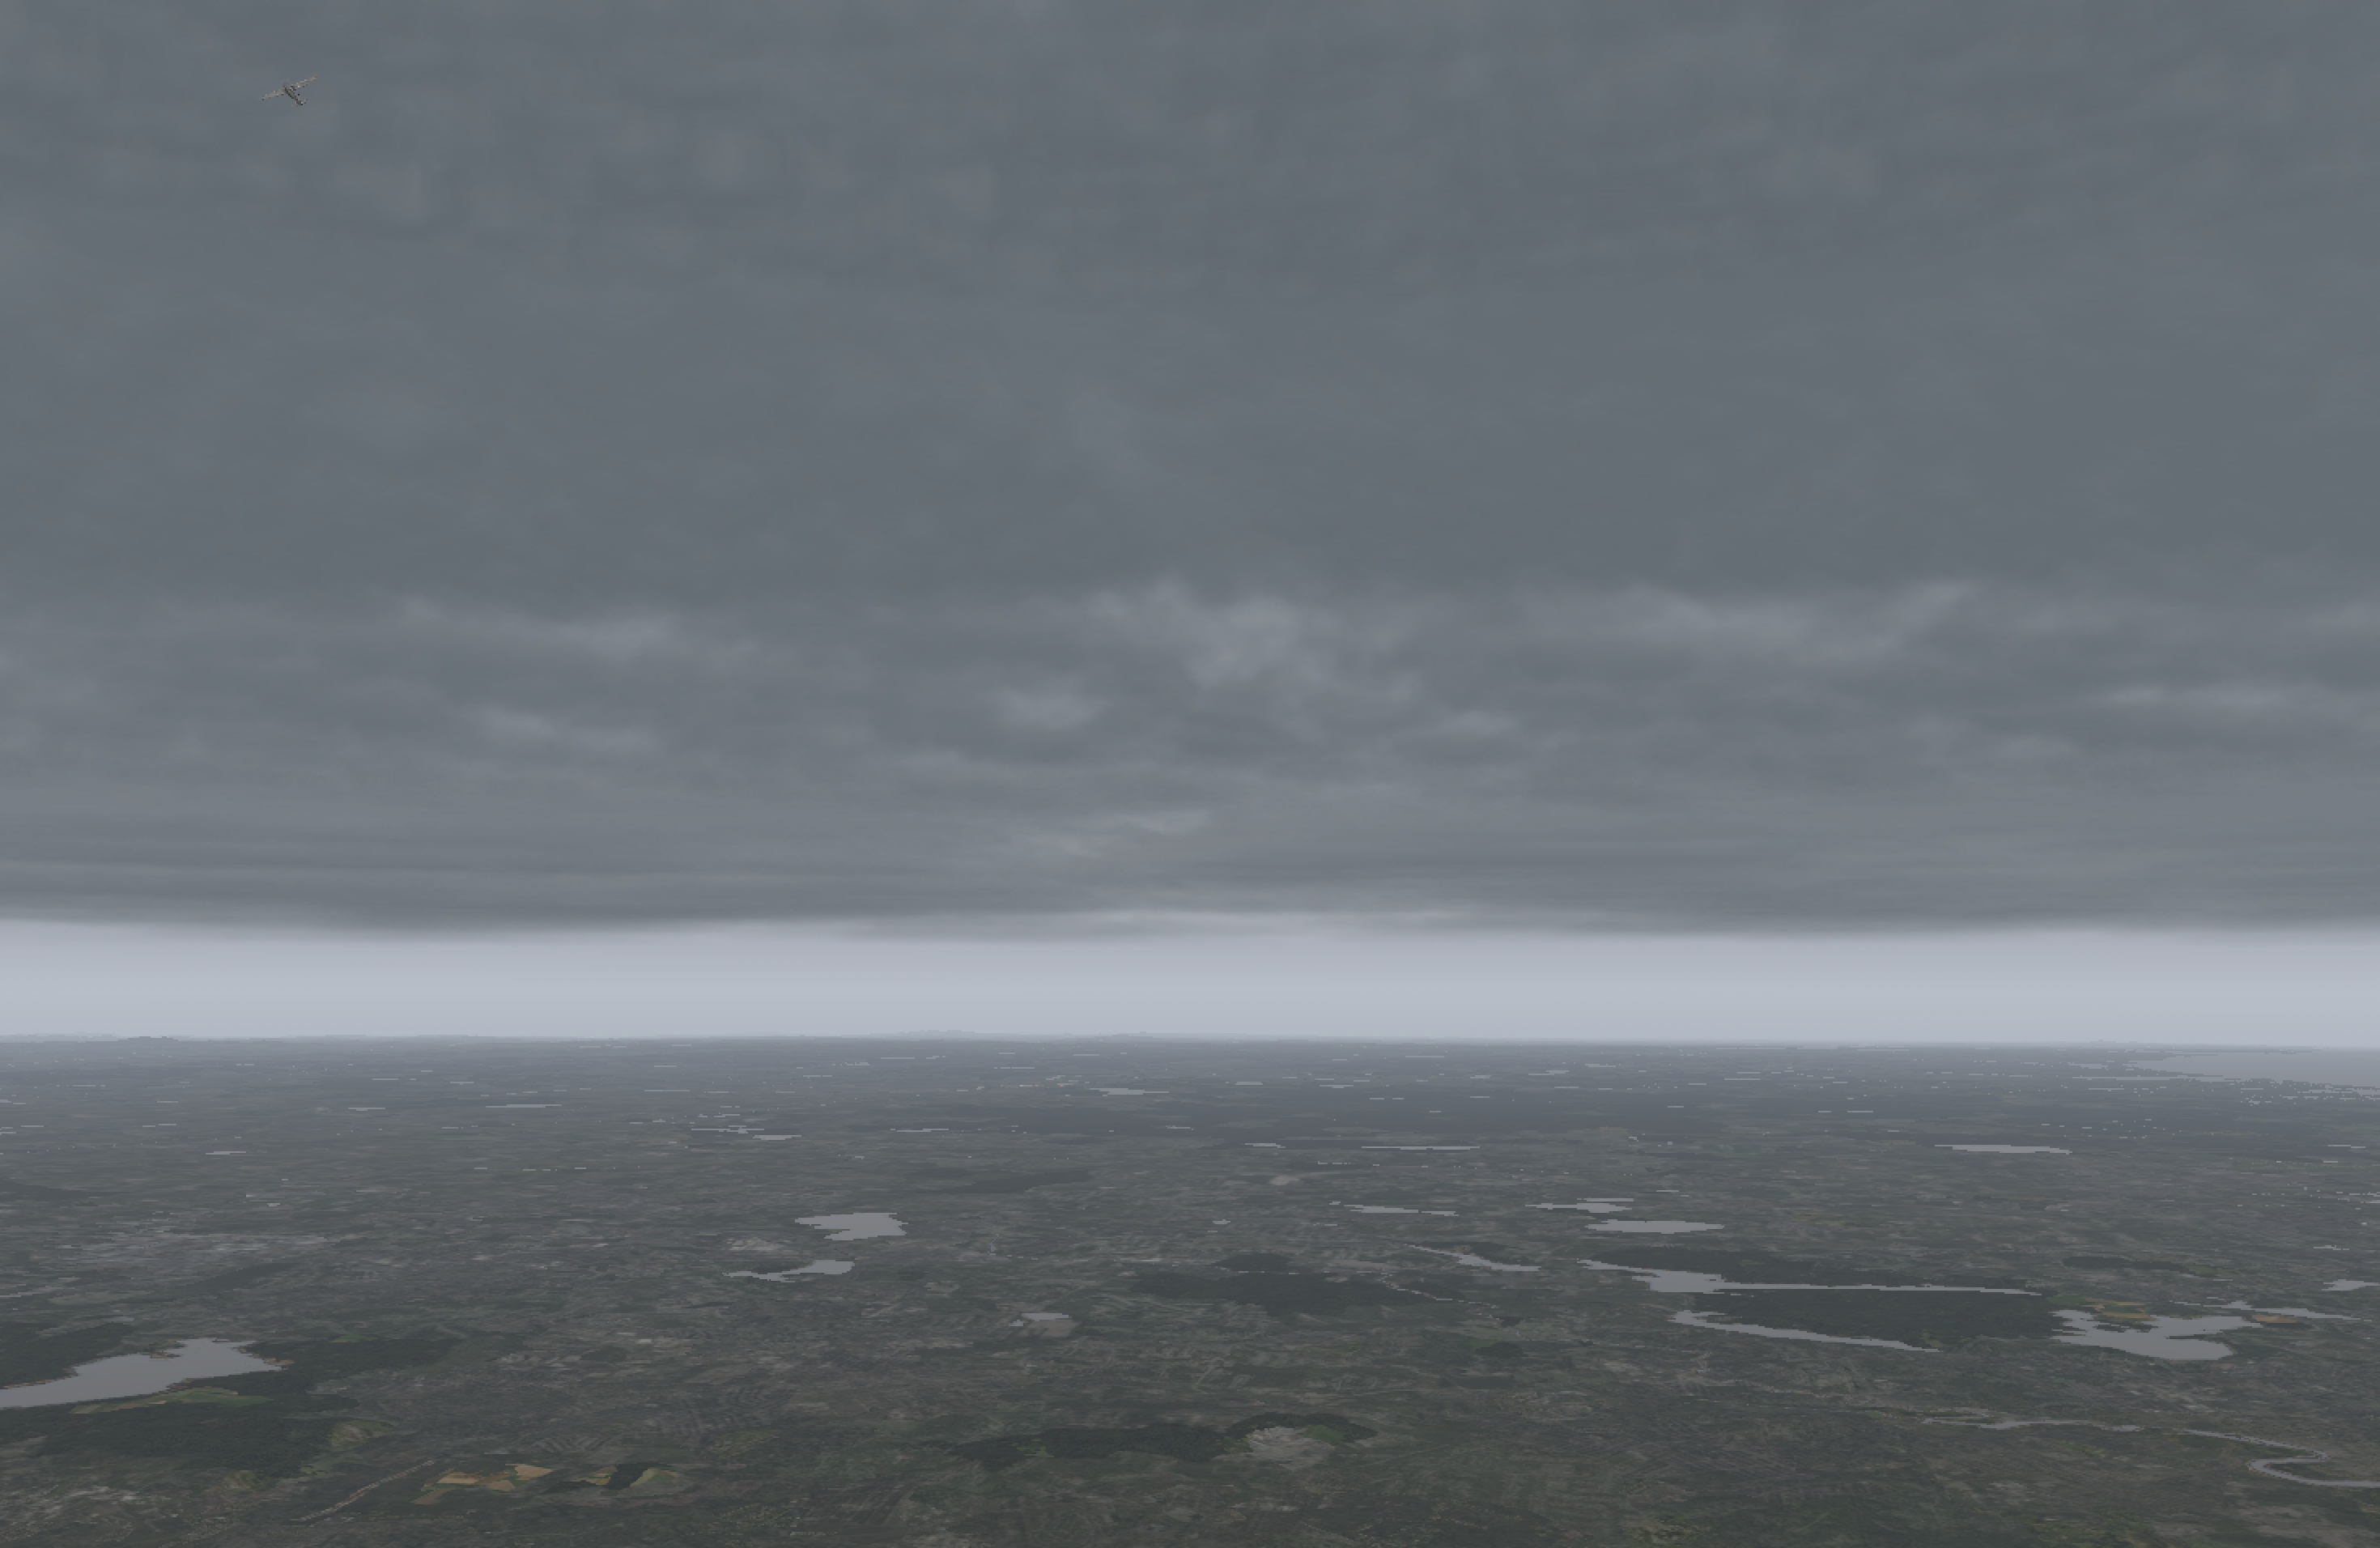aircraft: (271, 83, 309, 97)
